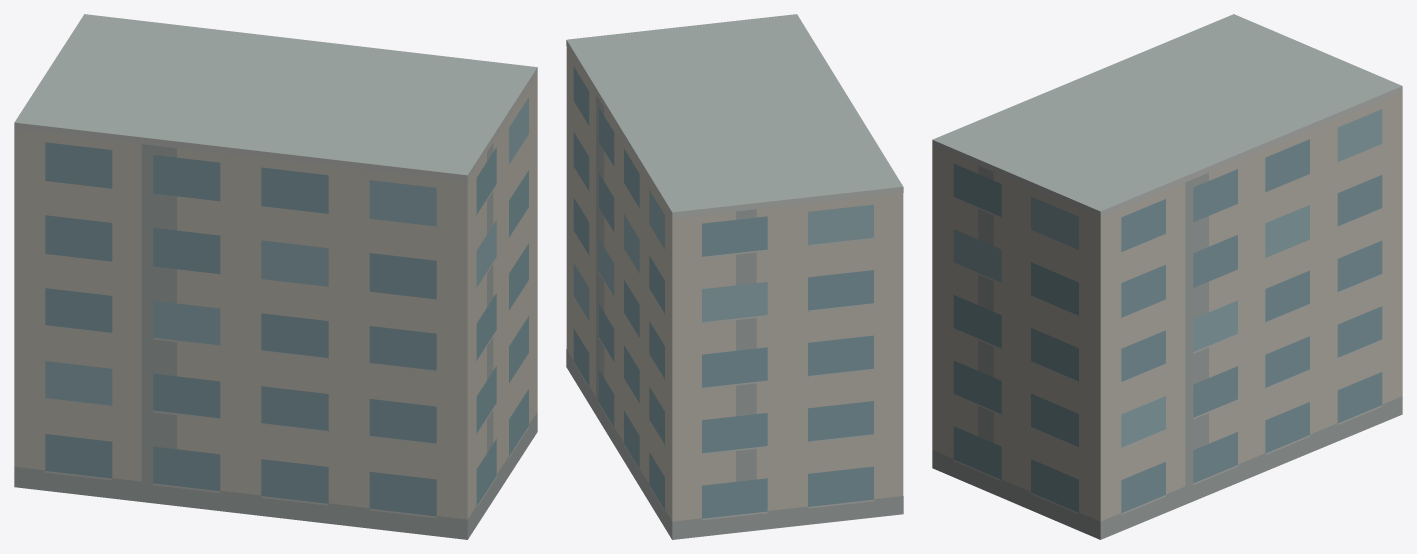
The model's file is survey-upis-32881698.glb.
The picture shows the model from 3 angles, left to right: view 1: azimuth 30°, elevation 25°; view 2: azimuth 150°, elevation 25°; view 3: azimuth 270°, elevation 25°; orthographic projection. The views are drawn at different scales.
Parts seen in each view (by area): view 1: survey-upis-32881698.tmp; view 2: survey-upis-32881698.tmp; view 3: survey-upis-32881698.tmp.
Part boxes in pixels (<box>): survey-upis-32881698.tmp: <box>14,14,537,539</box>; survey-upis-32881698.tmp: <box>566,14,903,539</box>; survey-upis-32881698.tmp: <box>932,14,1402,539</box>.
Bounding box in the file's own units: 16.9 × 13.1 × 17.01.
